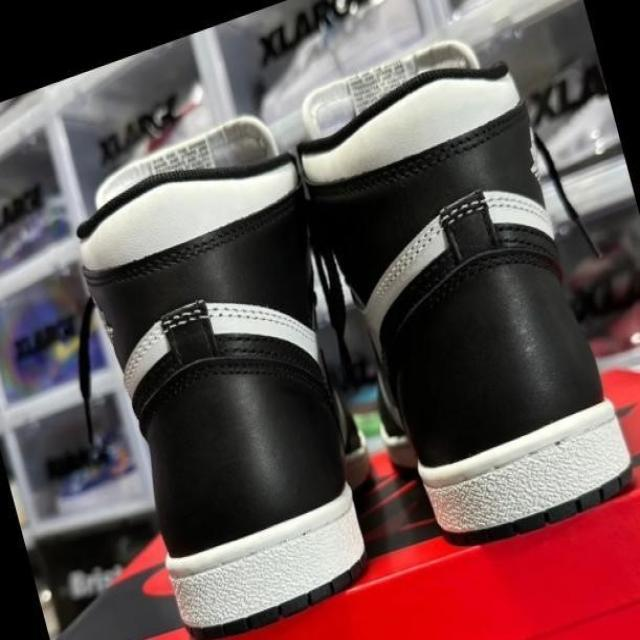J1_MateComp: (295, 40, 634, 541), (75, 114, 368, 637)
J1_ShoeLogo: (1, 1, 638, 639), (300, 38, 481, 142), (93, 114, 279, 210), (95, 89, 198, 169), (256, 0, 374, 67)
J1_StitchPattern: (115, 185, 565, 407), (364, 185, 561, 326), (422, 412, 633, 539), (120, 296, 329, 403), (81, 188, 302, 286), (175, 551, 368, 636), (483, 462, 633, 537), (120, 297, 216, 398), (366, 216, 447, 308), (157, 297, 220, 365)
